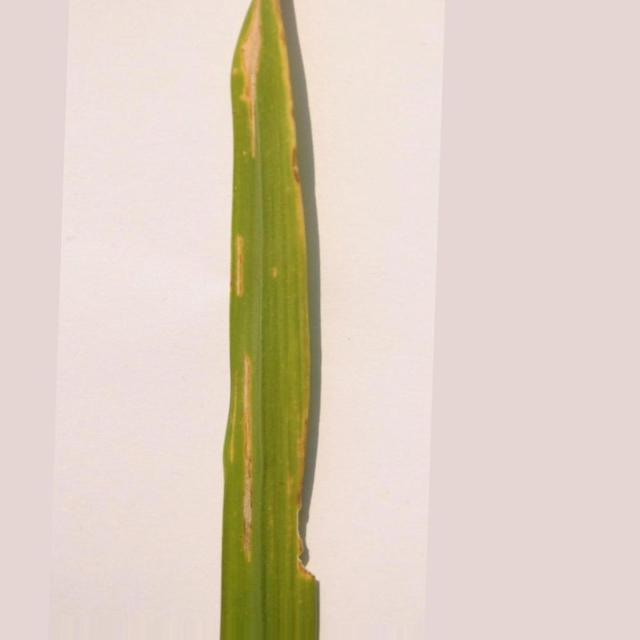Bacterial_Leaf_Blight: (269, 0, 306, 259), (239, 0, 263, 157), (242, 355, 252, 556), (230, 371, 238, 464), (235, 235, 244, 296), (271, 268, 278, 278)
